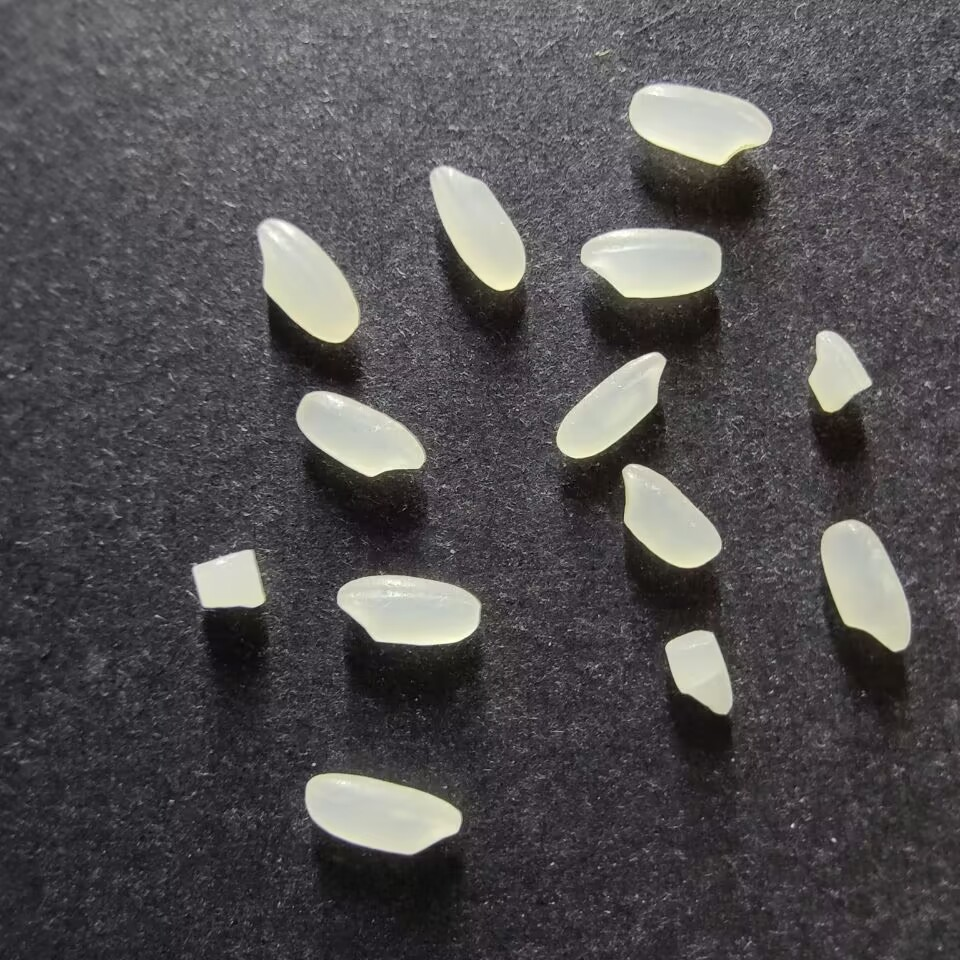broken: (803, 328, 875, 415), (664, 628, 735, 716), (191, 547, 265, 611)
rice: (252, 216, 363, 345), (302, 771, 465, 856), (818, 516, 914, 653), (554, 348, 669, 461), (429, 163, 527, 292), (628, 82, 775, 166), (294, 388, 427, 479), (618, 461, 725, 572), (333, 572, 482, 647), (578, 226, 723, 299)
